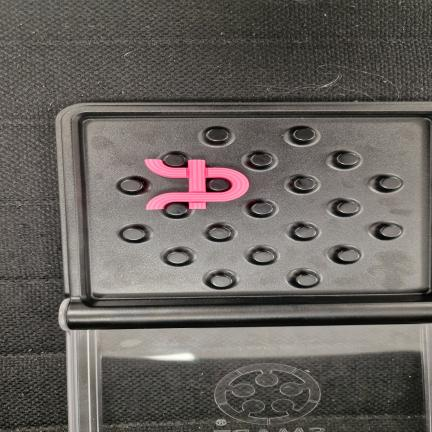G_Pink: (145, 160, 249, 209)
board: (56, 102, 432, 329)
hinge: (64, 294, 432, 331)
pin: (164, 203, 188, 217), (206, 128, 228, 143), (336, 152, 359, 166), (250, 153, 273, 167), (293, 177, 316, 191), (207, 178, 231, 191), (166, 251, 190, 264), (379, 176, 401, 190), (293, 128, 316, 141), (120, 179, 143, 192), (251, 202, 274, 215), (122, 228, 145, 241), (163, 154, 185, 167), (294, 226, 316, 239), (380, 225, 402, 238), (252, 250, 274, 263), (338, 249, 359, 262), (296, 274, 317, 287), (337, 202, 359, 214), (209, 227, 231, 239), (210, 275, 232, 287)
